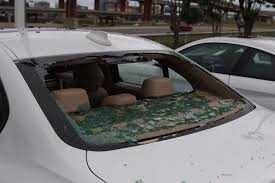Broken-glass: (30, 52, 256, 148)
